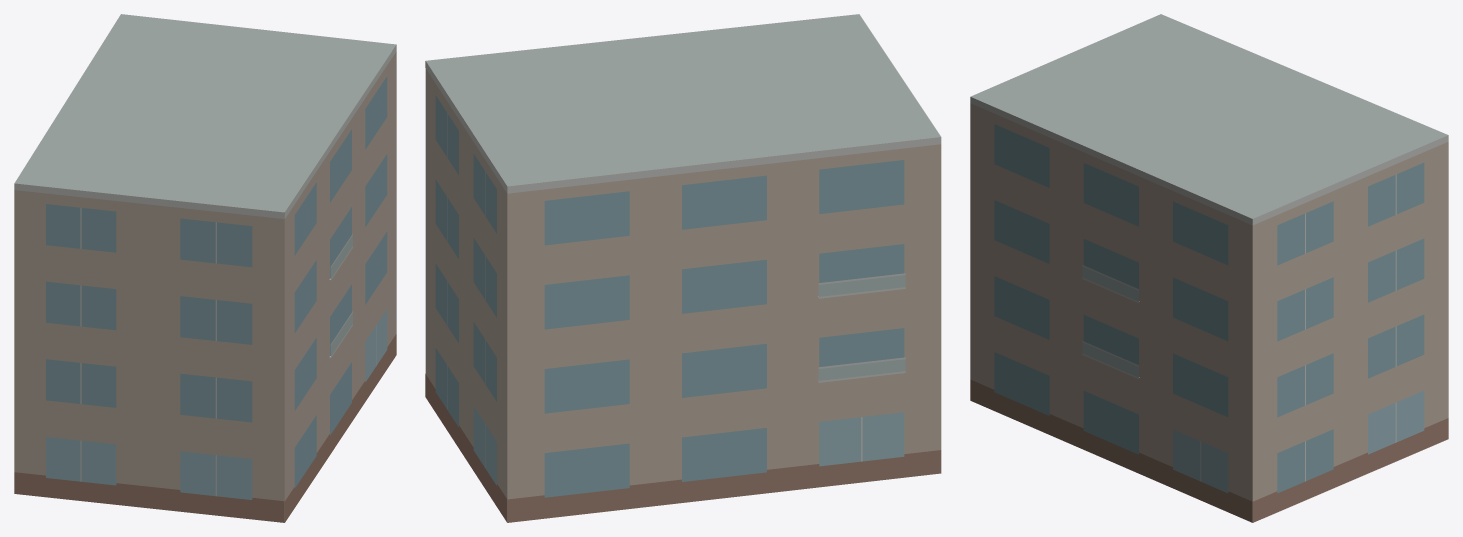
File: survey-upis-32616546.glb
3 renders of one model, left to right at view 1: azimuth 30°, elevation 25°; view 2: azimuth 150°, elevation 25°; view 3: azimuth 270°, elevation 25°, orthographic. The views are drawn at different scales.
Parts seen in each view (by area): view 1: survey-upis-32616546.tmp; view 2: survey-upis-32616546.tmp; view 3: survey-upis-32616546.tmp.
Boxes of the visible parts, left/top/right/bottom form: survey-upis-32616546.tmp: left=14, top=14, right=396, bottom=522; survey-upis-32616546.tmp: left=425, top=14, right=941, bottom=522; survey-upis-32616546.tmp: left=970, top=14, right=1448, bottom=522.
Bounding box in the file's own units: 16.65 × 11.5 × 16.41.
